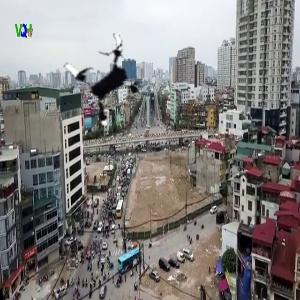drone: (55, 30, 152, 127)
